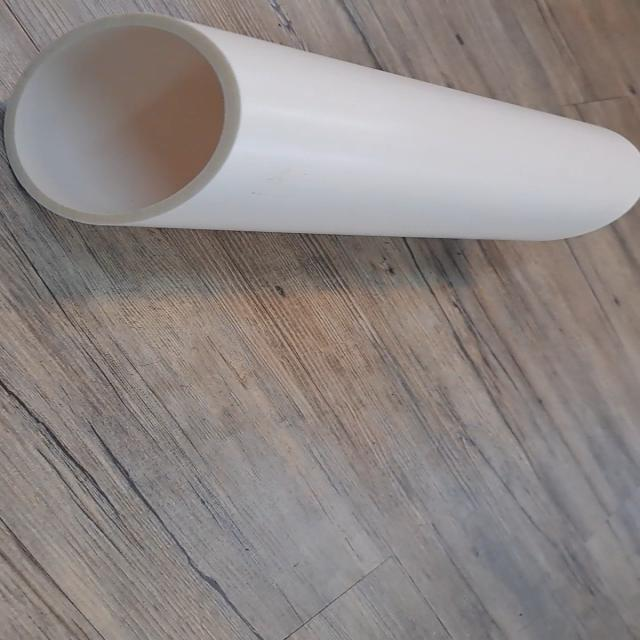CORAL: (3, 8, 640, 250)
